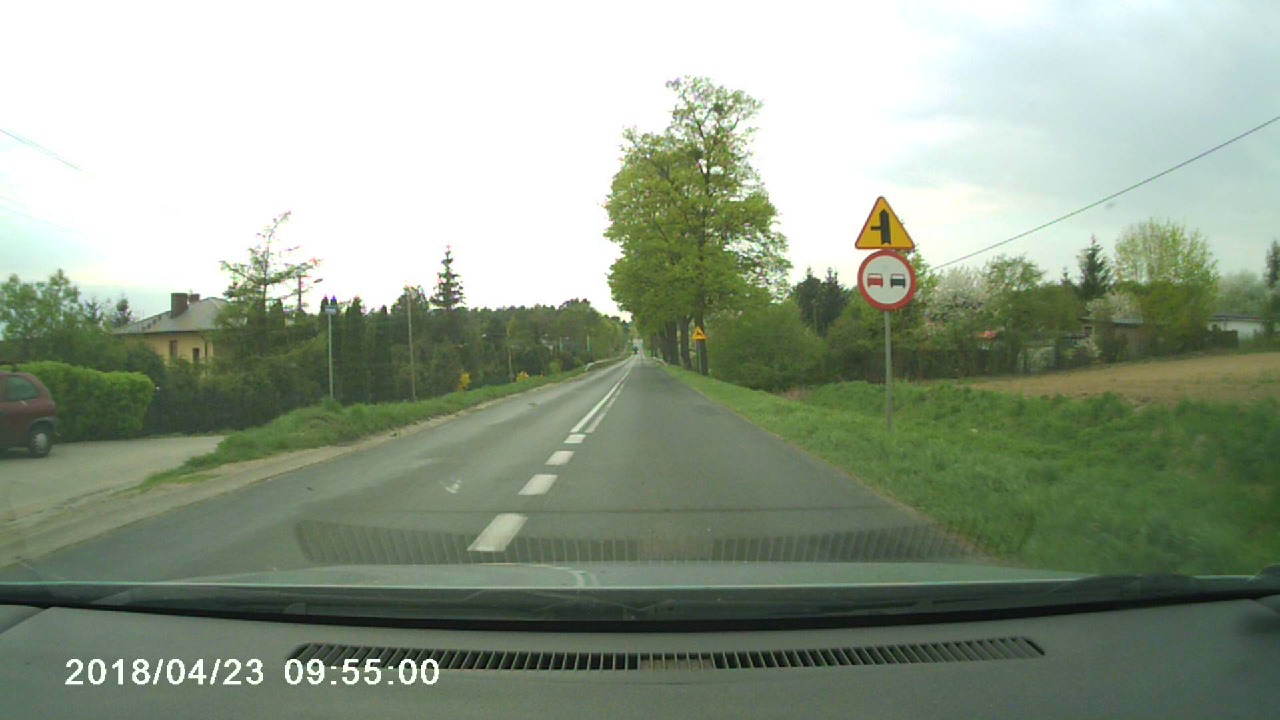A6c: (855, 196, 915, 249)
B25: (858, 250, 916, 310)
